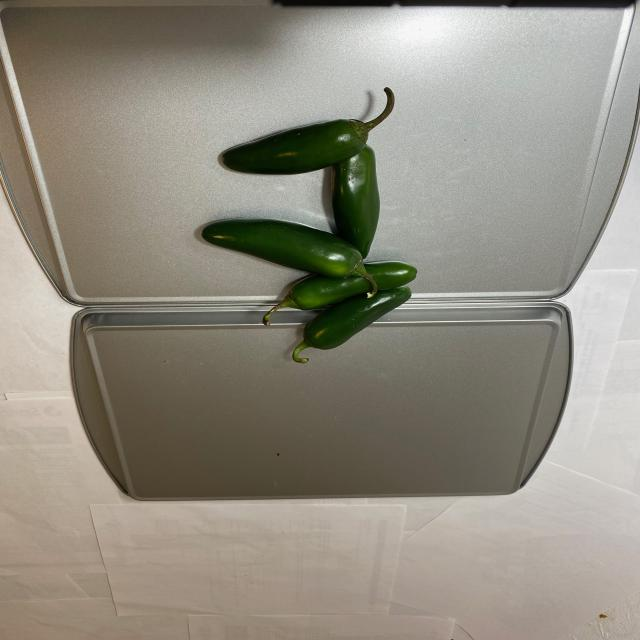chilli: (198, 99, 410, 368)
